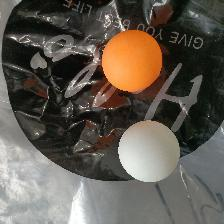WhiteBall: (118, 120, 180, 182)
YellowBall: (101, 29, 162, 92)
